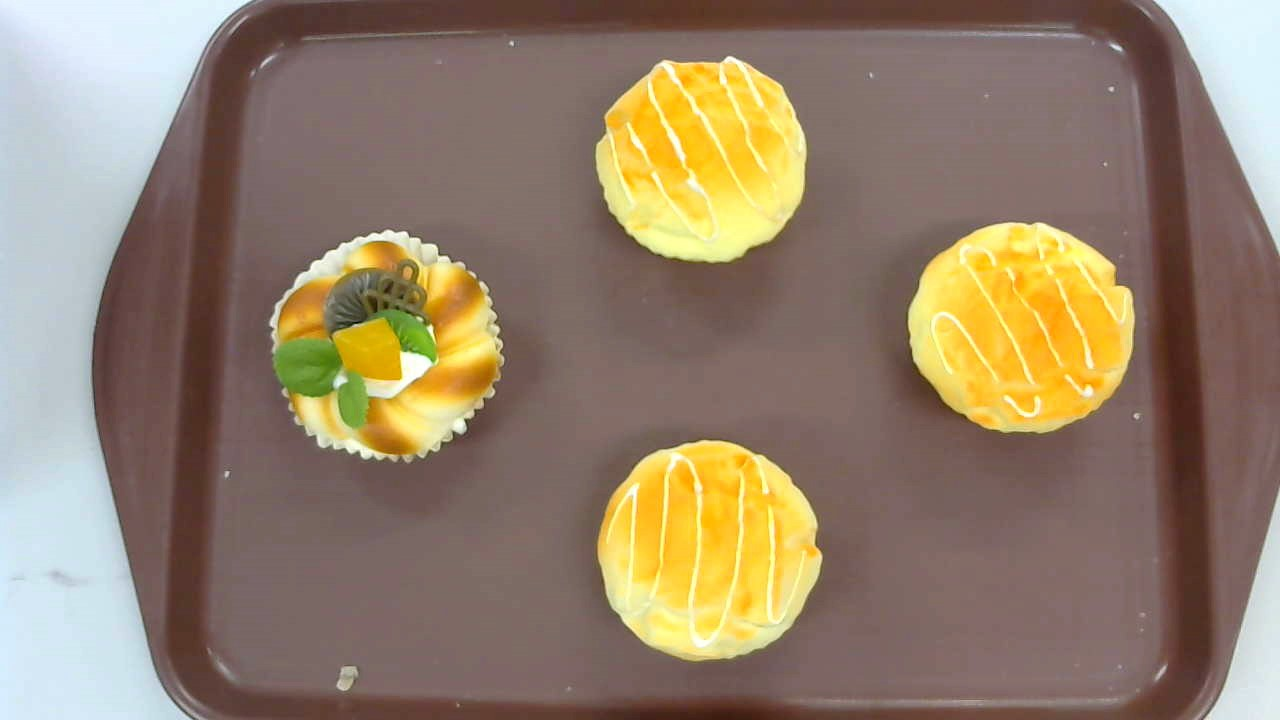cupcake: (597, 439, 823, 663), (907, 221, 1134, 433), (597, 52, 806, 263)
fruit tart: (268, 228, 507, 464)
